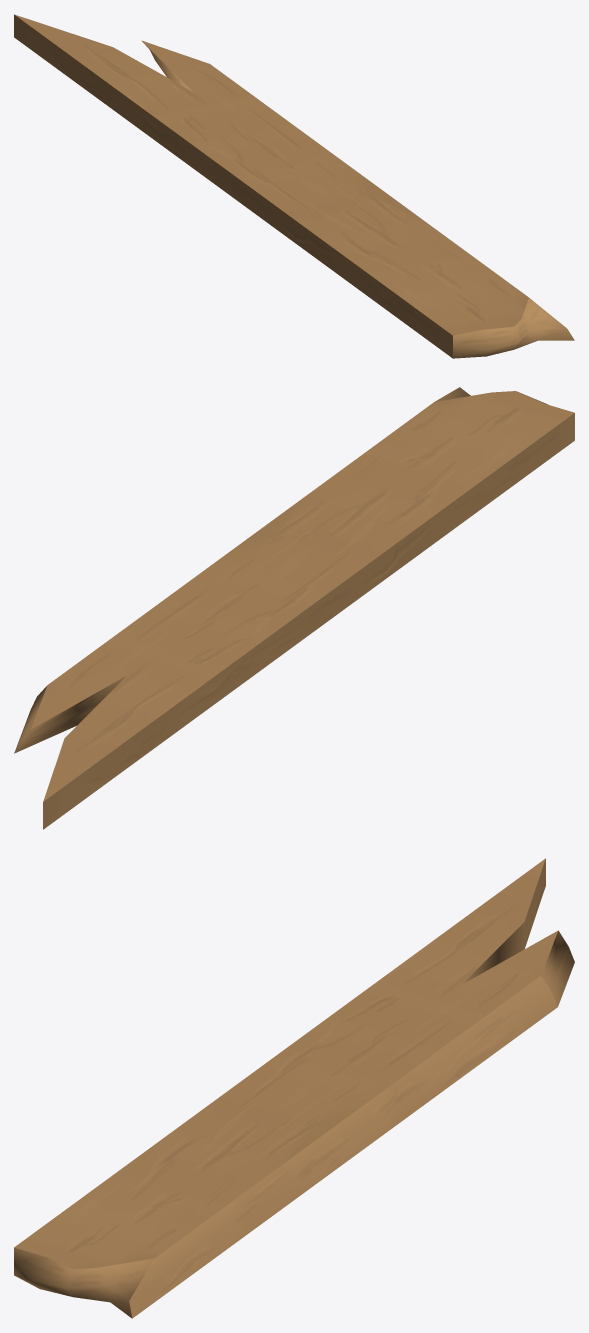
The model's file is Wooden Board2.FBX.
The picture shows the model from 3 angles, top to bottom: view 1: azimuth 30°, elevation 25°; view 2: azimuth 150°, elevation 25°; view 3: azimuth 330°, elevation 25°; orthographic projection. The views are drawn at different scales.
Visible parts, largest first — view 1: Box002; view 2: Box002; view 3: Box002.
Boxes of the visible parts, left/top/right/bottom form: Box002: left=14, top=14, right=574, bottom=358; Box002: left=14, top=387, right=574, bottom=829; Box002: left=14, top=858, right=574, bottom=1318.
Size of the model in its own units: 0.25 by 0.05 by 1.78.
